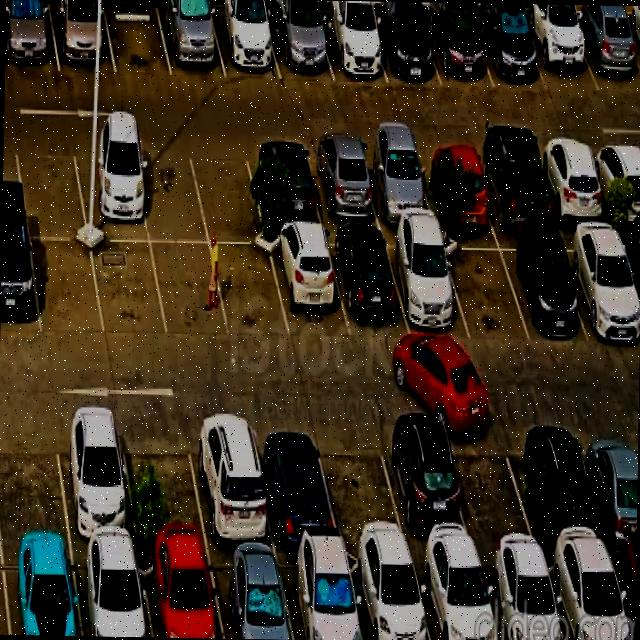empty: (446, 419, 539, 553), (315, 420, 408, 551), (119, 413, 208, 547), (440, 236, 529, 340), (0, 411, 69, 544), (188, 141, 266, 244), (134, 141, 208, 242), (91, 241, 167, 339), (151, 243, 229, 337), (14, 137, 87, 237), (211, 246, 289, 338), (30, 239, 104, 335), (103, 1, 171, 75)
occupied: (377, 420, 476, 552), (186, 413, 275, 548), (251, 417, 340, 547), (53, 410, 137, 545), (523, 419, 608, 552), (496, 235, 586, 339), (383, 232, 470, 339), (558, 230, 640, 339), (326, 231, 410, 336), (268, 231, 349, 339), (71, 139, 149, 241), (206, 550, 294, 640), (578, 420, 638, 550), (544, 551, 631, 640), (137, 549, 223, 638), (478, 553, 565, 640), (412, 553, 499, 640), (346, 551, 431, 640), (277, 551, 362, 640), (72, 546, 152, 637), (1, 546, 81, 636), (473, 144, 554, 229), (245, 143, 323, 226), (416, 144, 494, 226), (304, 143, 381, 225), (521, 13, 599, 92), (358, 143, 435, 223), (535, 143, 609, 223), (473, 9, 546, 89), (569, 13, 640, 92), (423, 9, 493, 87), (368, 11, 441, 85), (209, 6, 281, 79), (157, 3, 225, 78), (316, 12, 387, 82), (48, 1, 115, 72), (266, 11, 333, 78), (589, 142, 640, 222), (0, 233, 40, 335), (4, 0, 59, 71), (609, 550, 636, 640), (616, 230, 640, 310), (622, 16, 640, 64)
